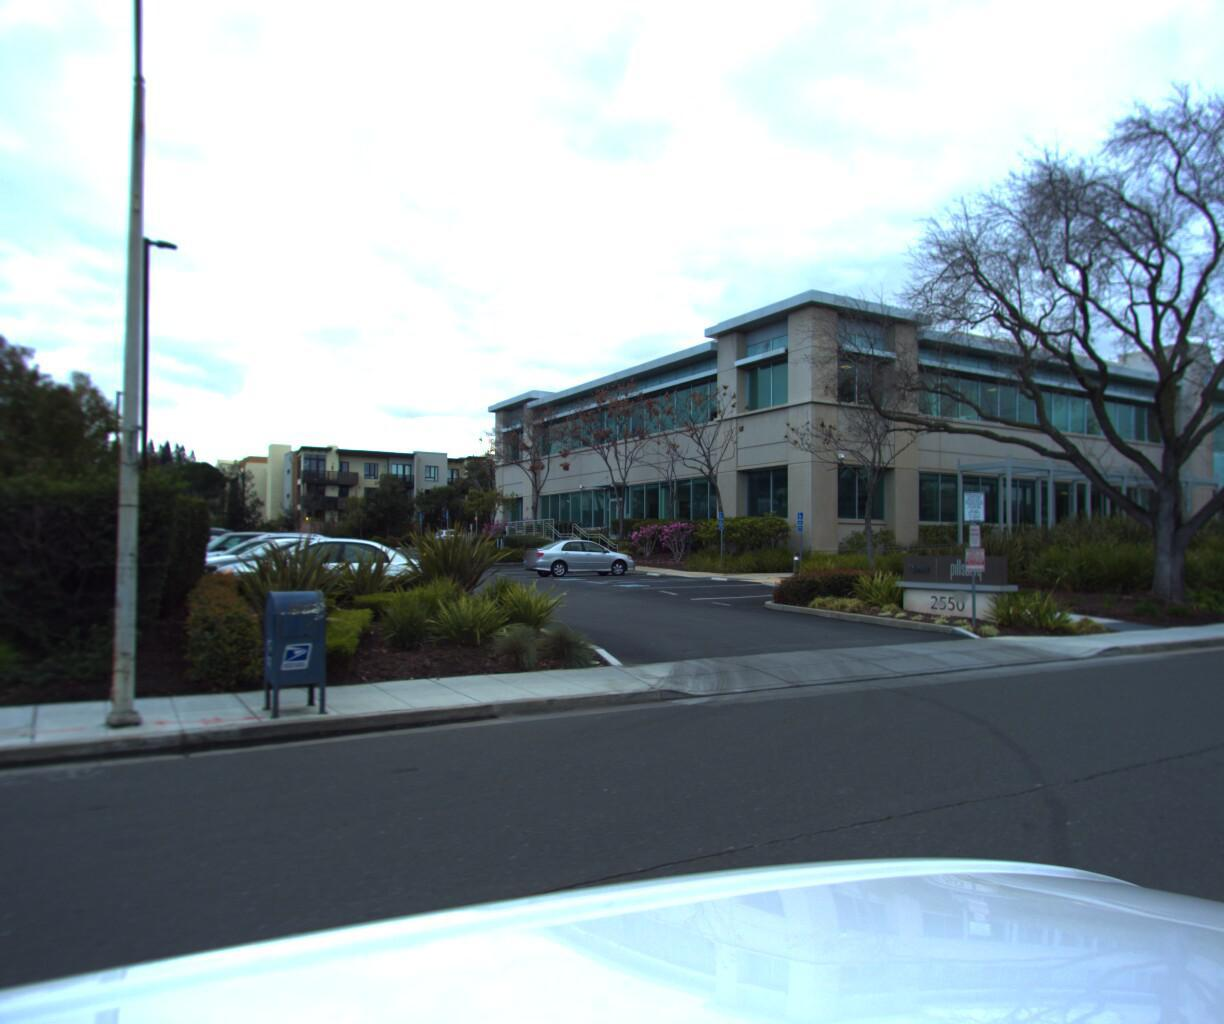car: (201, 530, 442, 614)
